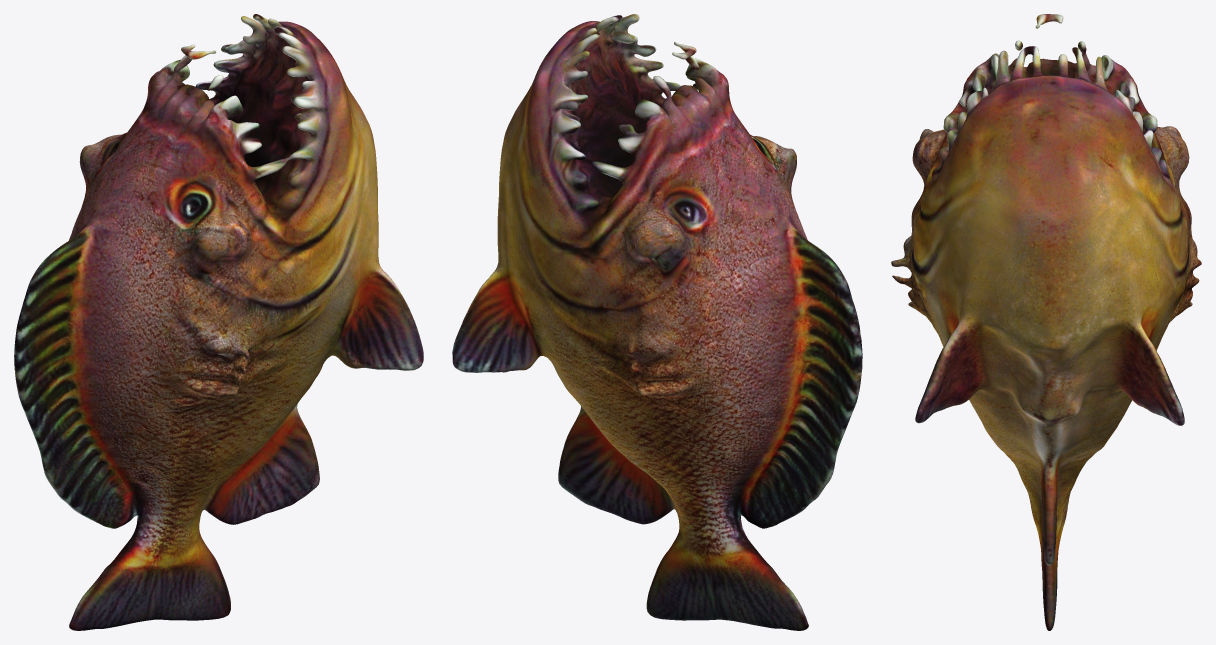
File: fish.glb
3 views of the same model, side by side, from view 1: azimuth 30°, elevation 25°; view 2: azimuth 150°, elevation 25°; view 3: azimuth 270°, elevation 25° (orthographic). The views are drawn at different scales.
Visible parts, largest first — view 1: model_0; view 2: model_0; view 3: model_0.
Part boxes in pixels (<box>): model_0: <box>14,14,423,630</box>; model_0: <box>452,14,862,630</box>; model_0: <box>891,14,1201,630</box>.
Bounding box in the file's own units: 1.15 × 1.82 × 0.843.
1 material, 1 textured.
